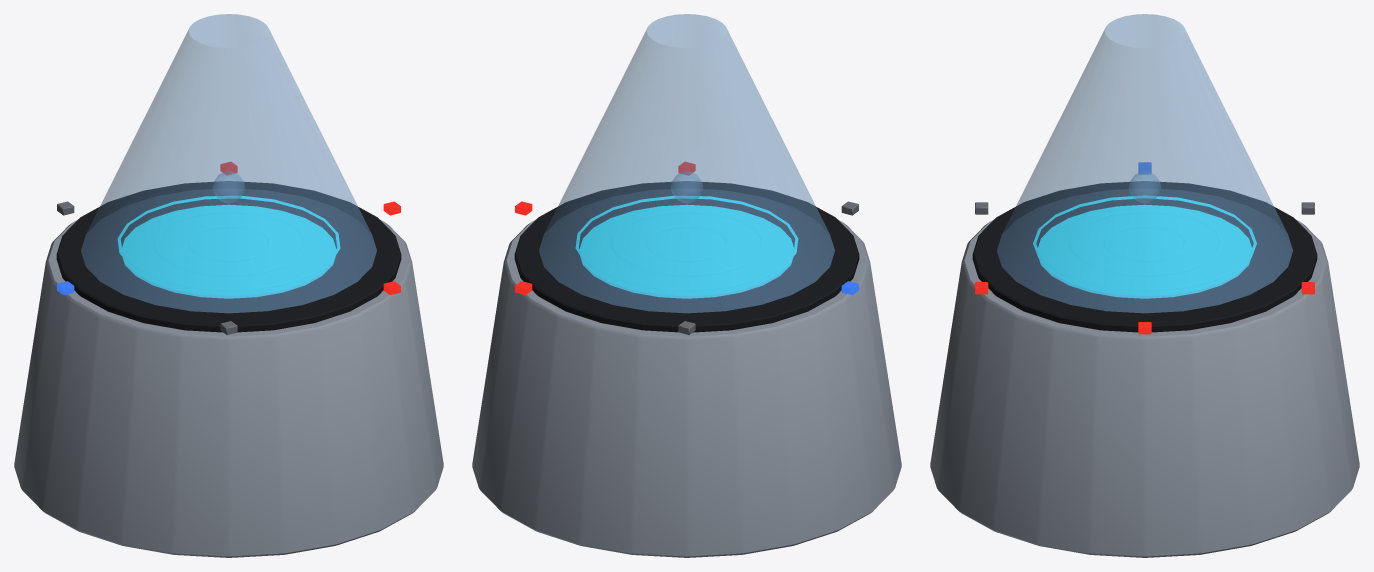
File: holo_briefing_table.glb
3 renders of one model, left to right at view 1: azimuth 30°, elevation 25°; view 2: azimuth 150°, elevation 25°; view 3: azimuth 270°, elevation 25°, orthographic.
Parts seen in each view (by area): view 1: holo_briefing_table; view 2: holo_briefing_table; view 3: holo_briefing_table.
Part boxes in pixels (x1,y1,x2,y2): holo_briefing_table: (14,14,443,557); holo_briefing_table: (472,14,901,557); holo_briefing_table: (930,14,1359,557).
Bounding box in the file's own units: 1.59 × 1.79 × 1.59.
